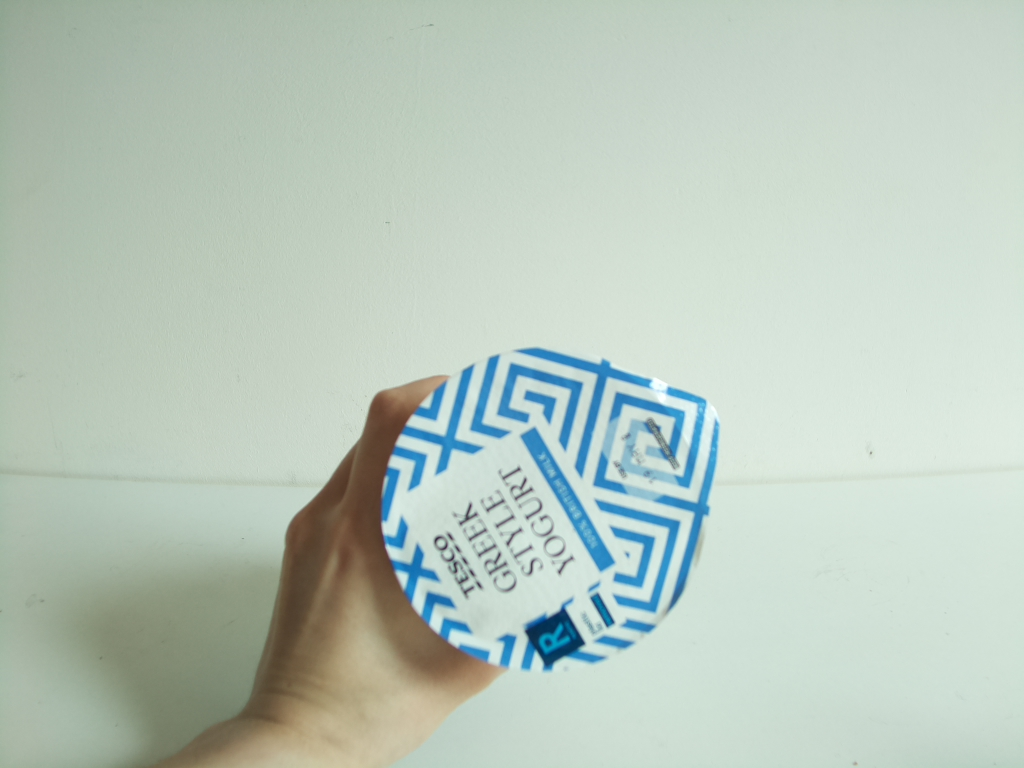yogurt: (373, 340, 731, 680)
